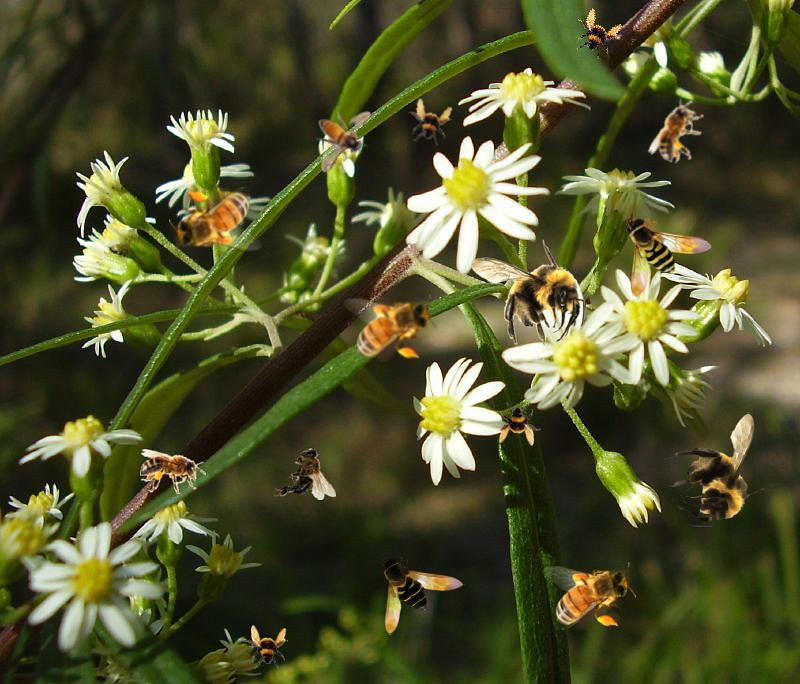Bee: (470, 239, 585, 346), (667, 412, 774, 527), (377, 553, 465, 635), (624, 215, 712, 297), (299, 96, 387, 175), (543, 562, 636, 630), (169, 187, 262, 255), (344, 294, 437, 362), (646, 91, 712, 170), (566, 4, 626, 64), (274, 447, 336, 500), (140, 449, 206, 494), (403, 96, 455, 148), (244, 625, 288, 669), (497, 402, 541, 446)
